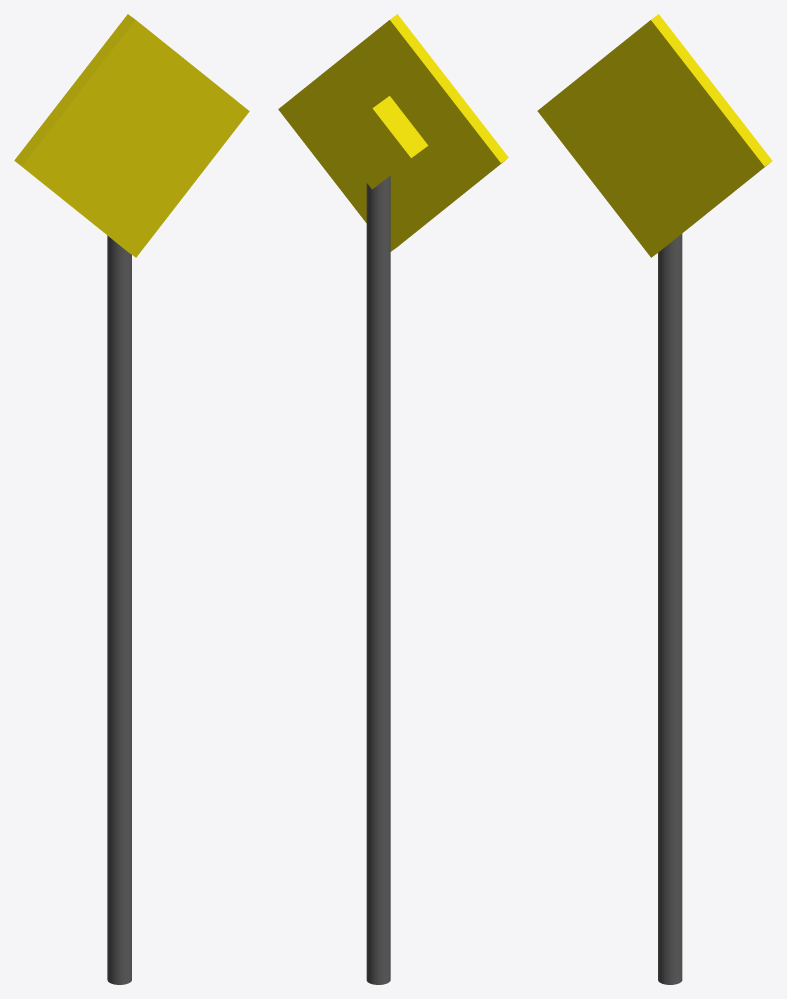
Rendered from BIKESIGN.fbx.
3 views of the same model, side by side, from view 1: azimuth 30°, elevation 25°; view 2: azimuth 150°, elevation 25°; view 3: azimuth 330°, elevation 25° (orthographic). The views are drawn at different scales.
Parts seen in each view (by area): view 1: Plane.001; view 2: Plane.001; view 3: Plane.001.
Boxes of the visible parts, x1,y1,x2,y2 form: Plane.001: (14,14,249,984); Plane.001: (278,14,508,984); Plane.001: (537,14,772,984).
Size of the model in its own units: 67.3 by 275 by 13.12.
